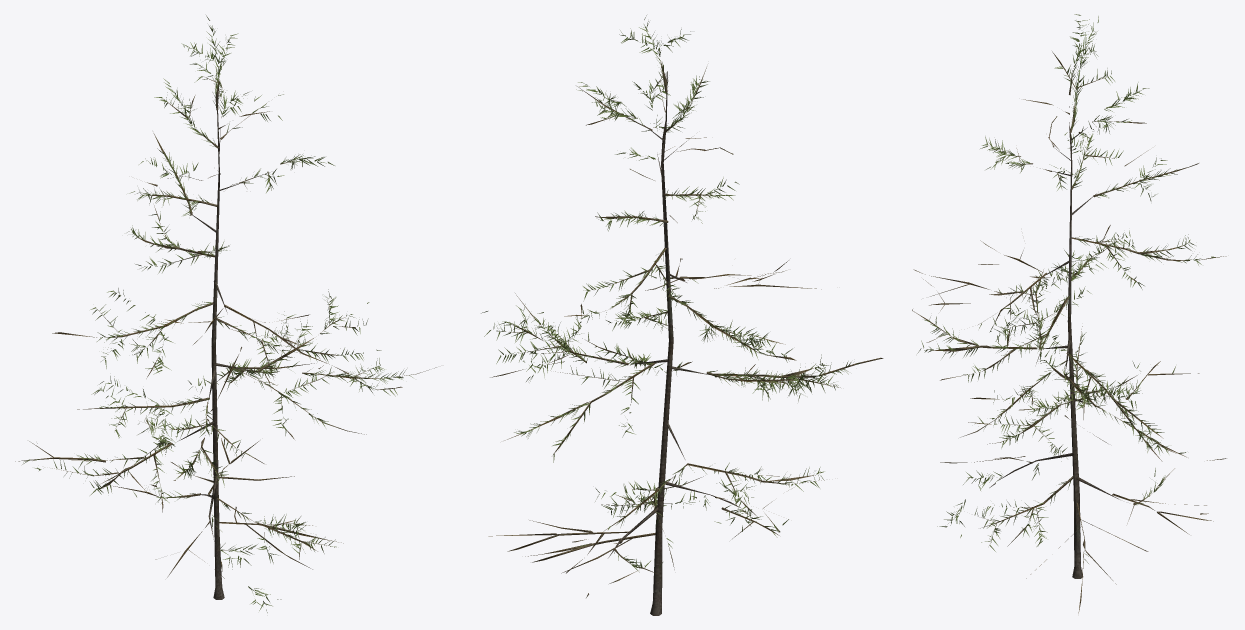
Rendered from fir-sapling.glb.
3 views of the same model, side by side, from view 1: azimuth 30°, elevation 25°; view 2: azimuth 150°, elevation 25°; view 3: azimuth 270°, elevation 25° (orthographic). The views are drawn at different scales.
Parts seen in each view (by area): view 1: fir_sapling_a; view 2: fir_sapling_a; view 3: fir_sapling_a.
Boxes of the visible parts, bbox=[...] form: fir_sapling_a: bbox=[15, 15, 436, 612]; fir_sapling_a: bbox=[481, 15, 883, 615]; fir_sapling_a: bbox=[912, 14, 1226, 613].
Bounding box in the file's own units: 0.8288 × 1.26 × 0.6466.
Materials: 1 (1 with a texture image).
